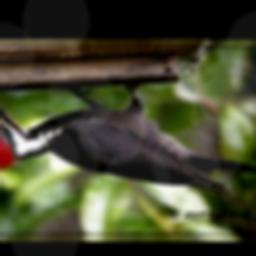Woodpecker: (0, 81, 256, 195)
